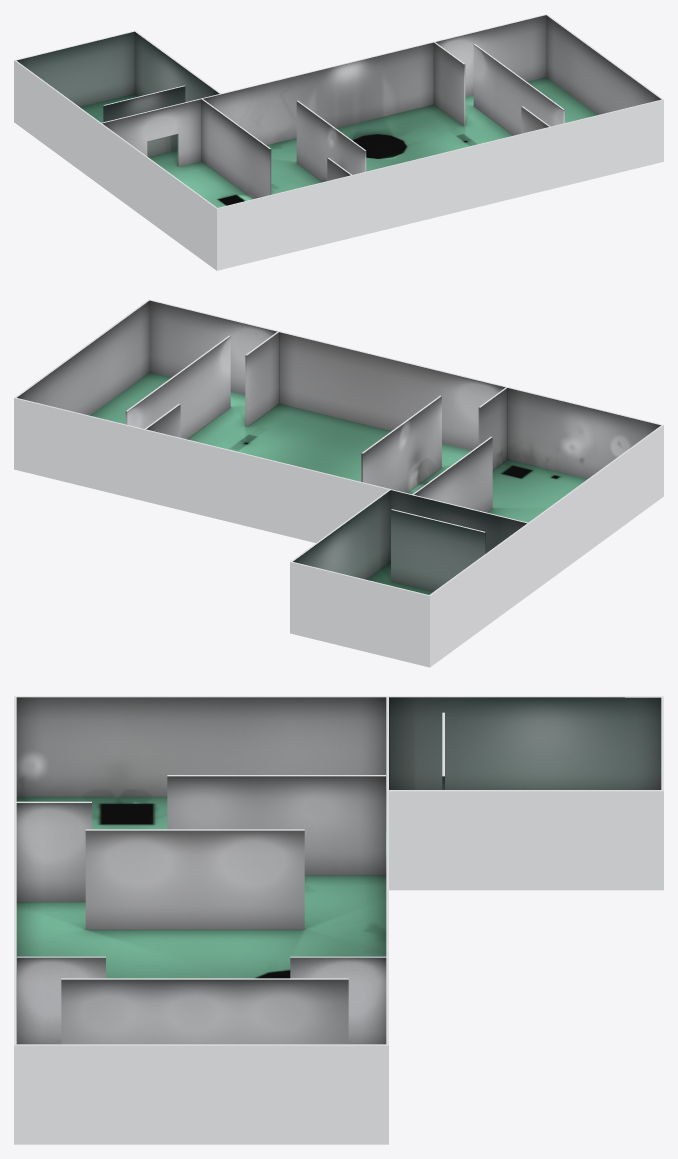
The model's file is floorplan.glb.
The picture shows the model from 3 angles, top to bottom: view 1: azimuth 30°, elevation 25°; view 2: azimuth 150°, elevation 25°; view 3: azimuth 270°, elevation 25°; orthographic projection. The views are drawn at different scales.
Bounding box in the file's own units: 30.2 × 4 × 23.75.
1 material, 1 textured.
